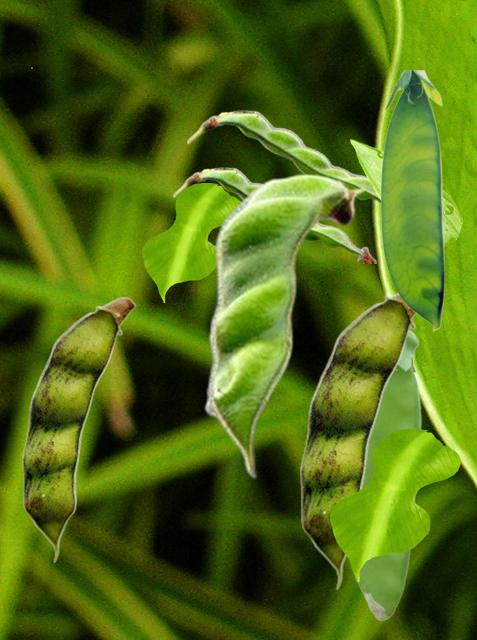pea: (203, 173, 365, 478), (300, 292, 416, 589), (22, 296, 135, 562), (353, 331, 421, 620), (173, 167, 376, 262), (187, 110, 379, 204), (380, 70, 443, 330)
